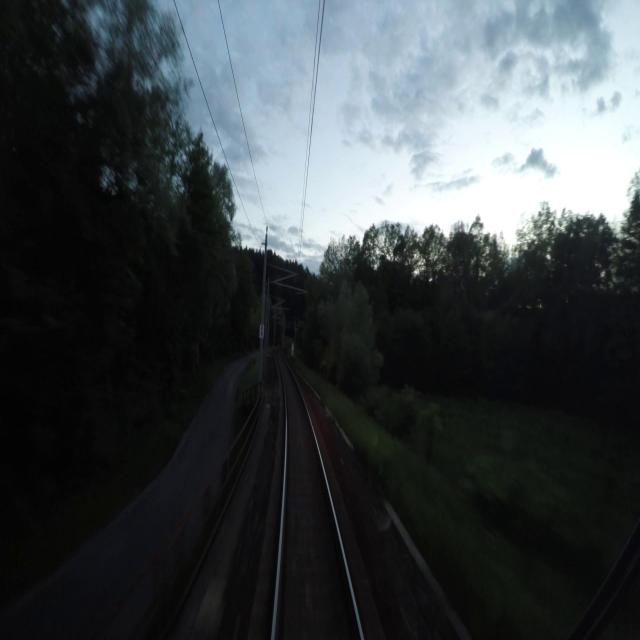rail-track: (276, 349, 359, 639)
